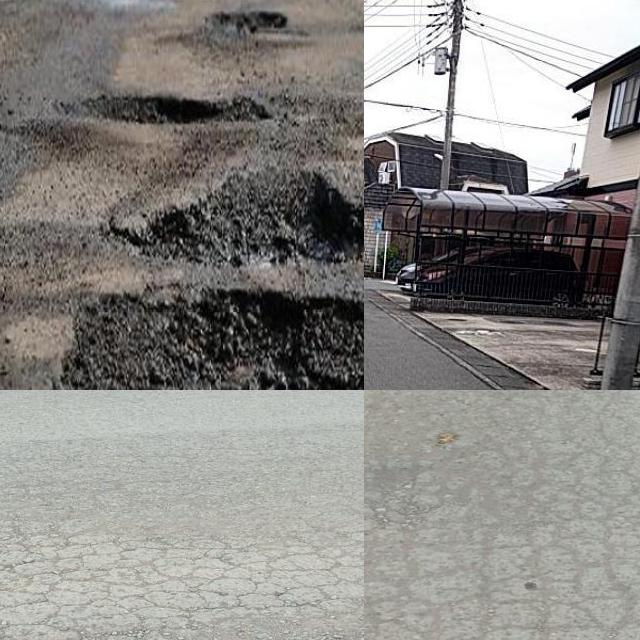Lubang: (55, 289, 364, 390), (108, 160, 364, 276), (59, 100, 273, 129), (209, 8, 282, 32)
Retak Buaya: (364, 492, 640, 640), (0, 537, 364, 640)
